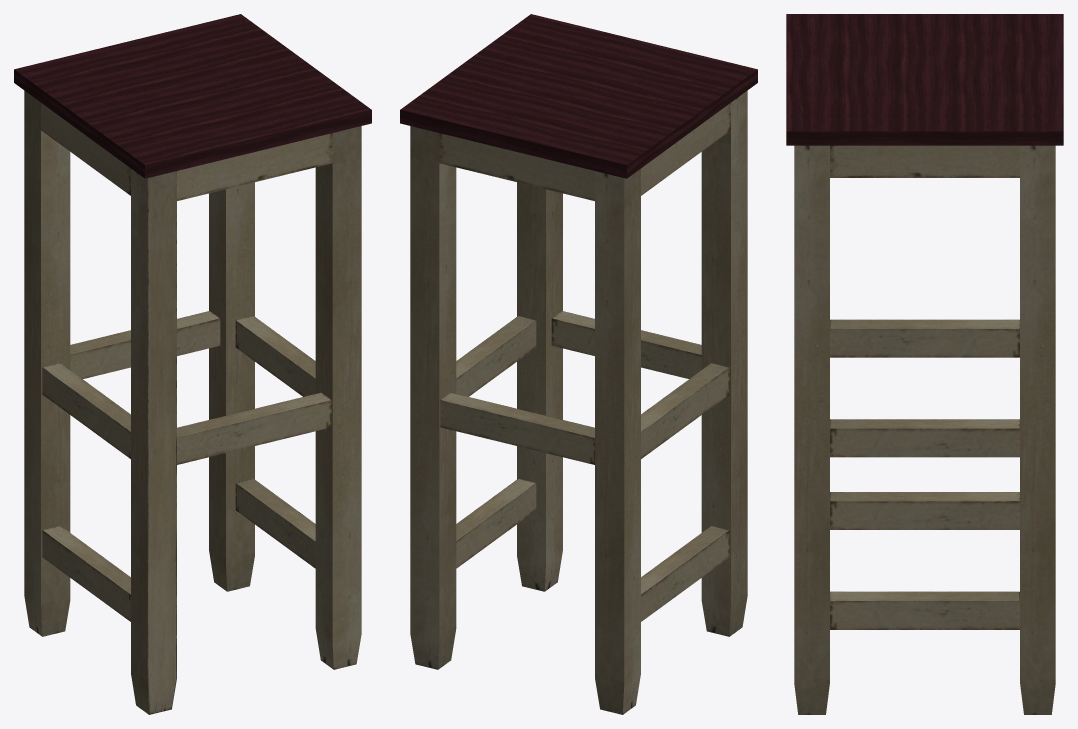
The model's file is example117.glb.
3 renders of one model, left to right at view 1: azimuth 30°, elevation 25°; view 2: azimuth 150°, elevation 25°; view 3: azimuth 270°, elevation 25°, orthographic. The views are drawn at different scales.
Visible parts, largest first — view 1: Buffer Layer (×2); view 2: Buffer Layer (×2); view 3: Buffer Layer (×2).
Part boxes in pixels (bbox=[...]): Buffer Layer (×2): bbox=[14, 14, 371, 714]; Buffer Layer (×2): bbox=[400, 14, 757, 714]; Buffer Layer (×2): bbox=[786, 14, 1063, 714].
Bounding box in the file's own units: 0.34 × 0.7966 × 0.34.
2 materials, 2 textured.
